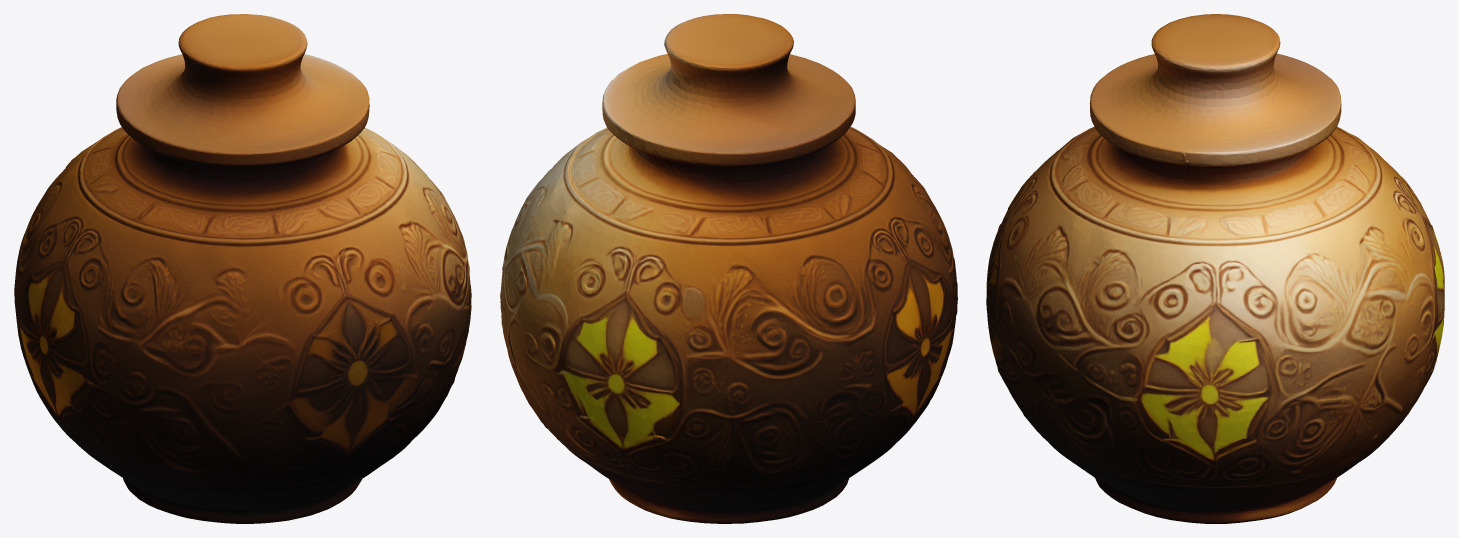
Rendered from terra-cotta-portable-water-filter-new-style.jpeg.glb.
3 views of the same model, side by side, from view 1: azimuth 30°, elevation 25°; view 2: azimuth 150°, elevation 25°; view 3: azimuth 270°, elevation 25° (orthographic).
Parts seen in each view (by area): view 1: world; view 2: world; view 3: world.
Part boxes in pixels (x1=…): world: x1=14, y1=14, x2=471, y2=523; world: x1=500, y1=14, x2=957, y2=523; world: x1=986, y1=14, x2=1444, y2=523.
Size of the model in its own units: 0.9557 by 1 by 0.9574.
1 material, 1 textured.
